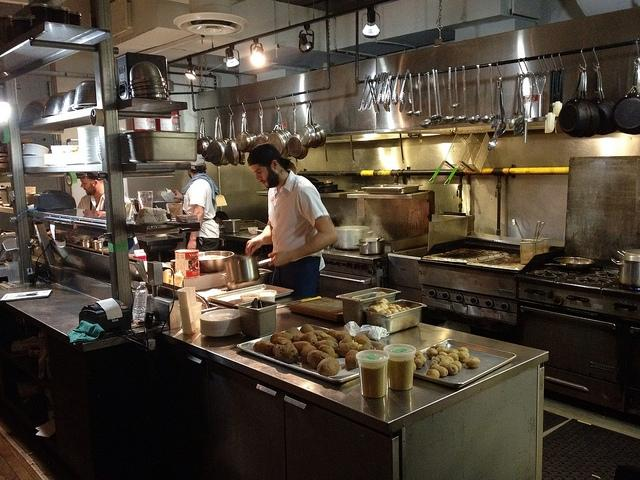potato: (273, 340, 299, 364), (307, 349, 333, 368), (317, 358, 340, 376), (252, 340, 276, 356), (300, 346, 318, 364), (337, 342, 358, 357), (293, 340, 311, 357), (345, 350, 359, 370), (300, 332, 318, 346), (317, 332, 338, 344), (352, 334, 372, 346), (318, 344, 335, 358), (335, 330, 352, 342), (444, 363, 458, 375), (271, 336, 292, 344), (466, 357, 480, 368), (292, 333, 306, 343), (434, 366, 448, 376), (300, 324, 315, 333), (426, 348, 438, 359), (458, 351, 470, 362), (426, 369, 440, 378), (324, 329, 338, 337), (428, 360, 438, 370), (416, 356, 426, 366), (439, 359, 453, 366), (313, 330, 326, 337), (414, 359, 424, 368), (447, 348, 459, 354), (415, 350, 424, 358), (458, 347, 469, 353), (434, 343, 444, 349), (376, 344, 386, 350), (438, 352, 448, 357), (290, 330, 302, 334), (414, 362, 416, 372)
